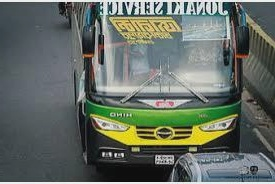bus: (72, 2, 250, 174)
